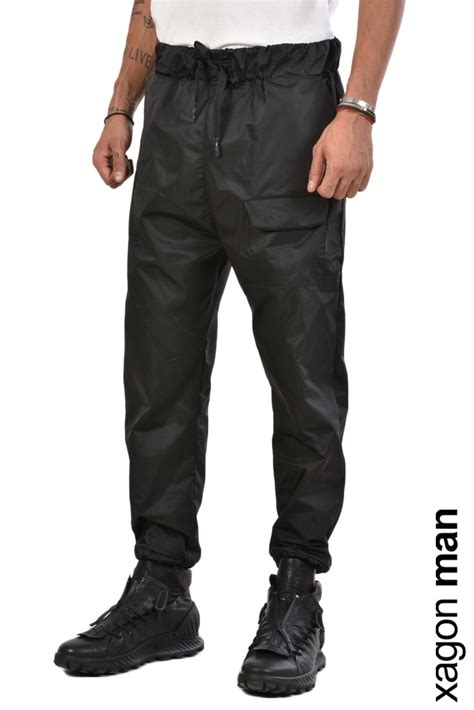nylon: (122, 41, 347, 572)
